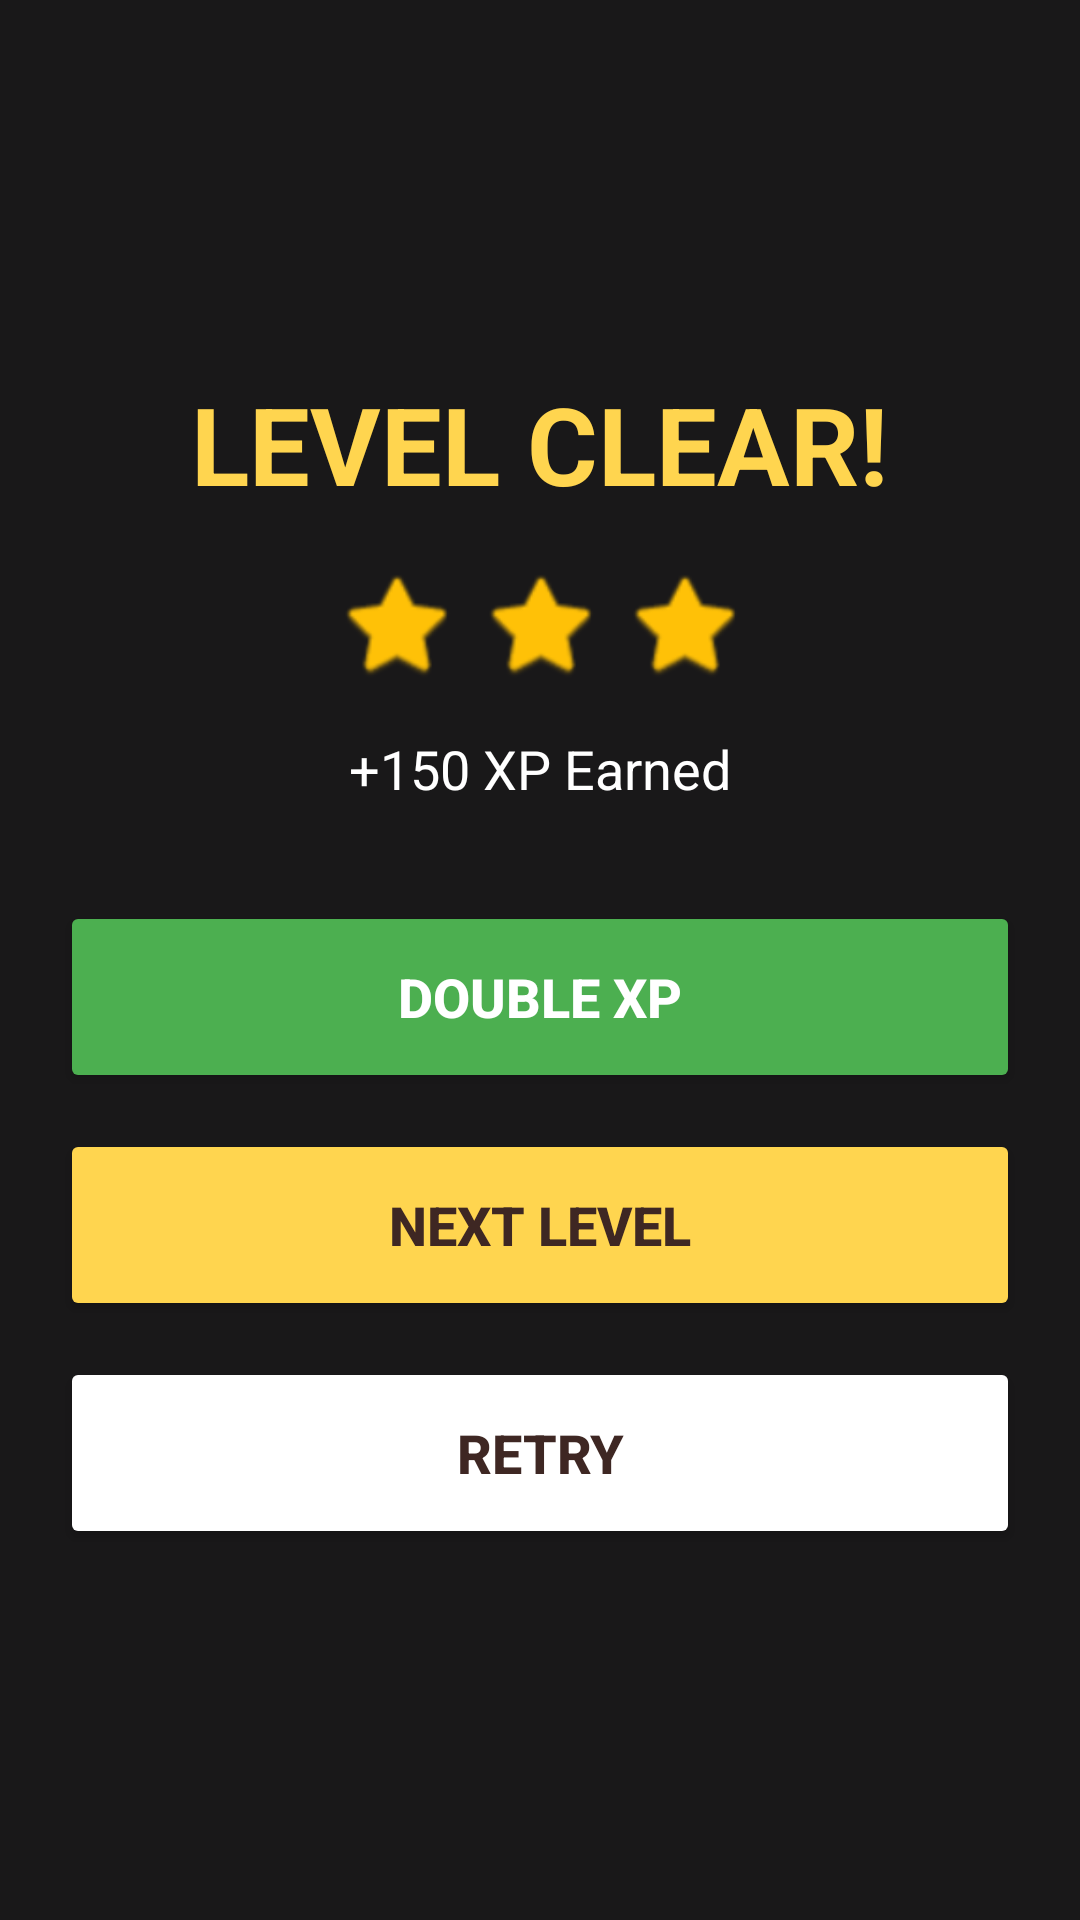

Point at icon controls on the screen. Image size 1080px×1920px, points as (x=x, y=y).
star: (x=397, y=625), (x=541, y=625), (x=685, y=625)
